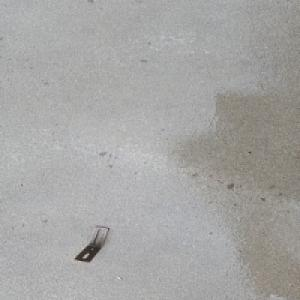MetalPart: (73, 226, 109, 262)
